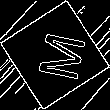M_W: (25, 27, 85, 83)
